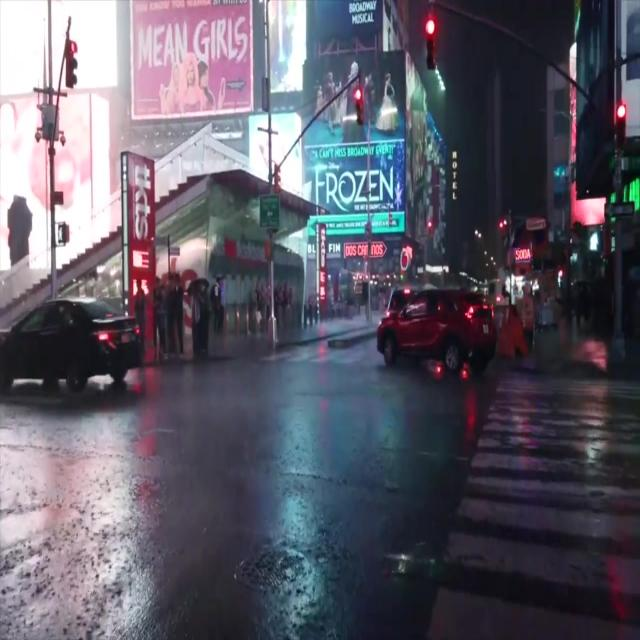Car: (8, 298, 138, 380), (375, 290, 494, 379)
